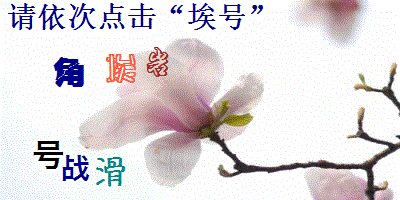text: (52, 56, 85, 88), (94, 156, 127, 188), (105, 53, 138, 84), (32, 140, 64, 170), (61, 153, 90, 182), (146, 46, 170, 78)
